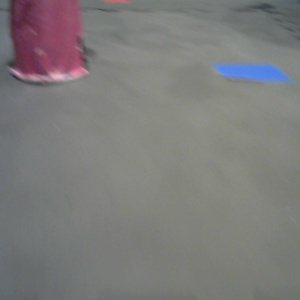middle: (6, 1, 90, 84)
